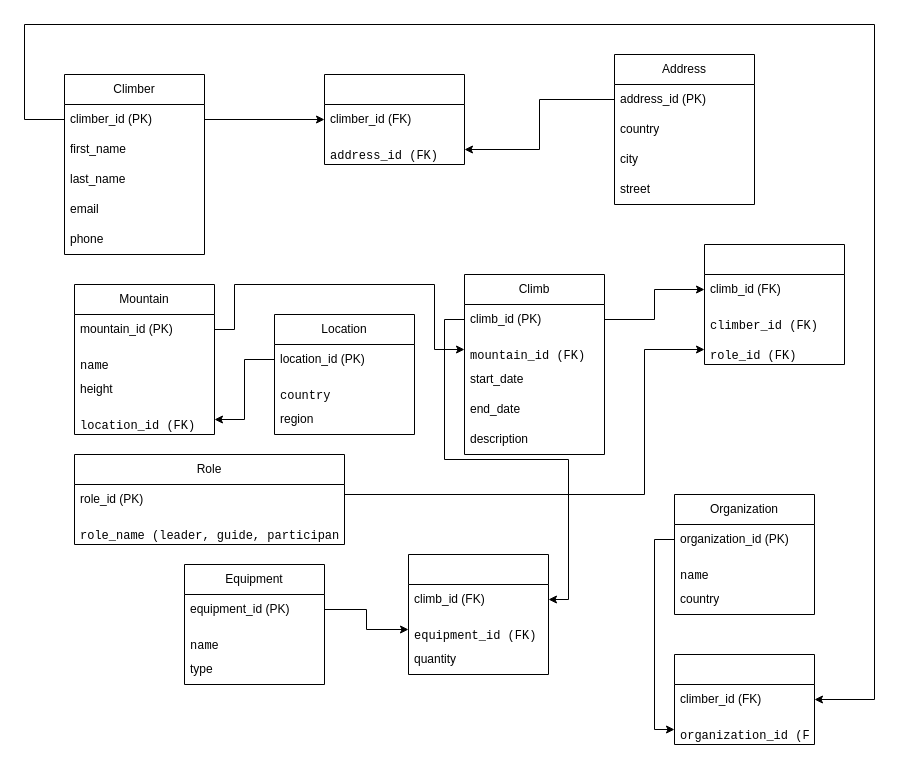
Image size: 900x762. Some labels were removed from this diagram. Here are the shapes that lost their labels. From the top down, the box of each, then its label:
(324, 74, 464, 164): Climber_Address
(704, 244, 844, 364): Climb_Participant
(408, 554, 548, 674): Climb_Equipment
(674, 654, 814, 744): Climber_Organization
